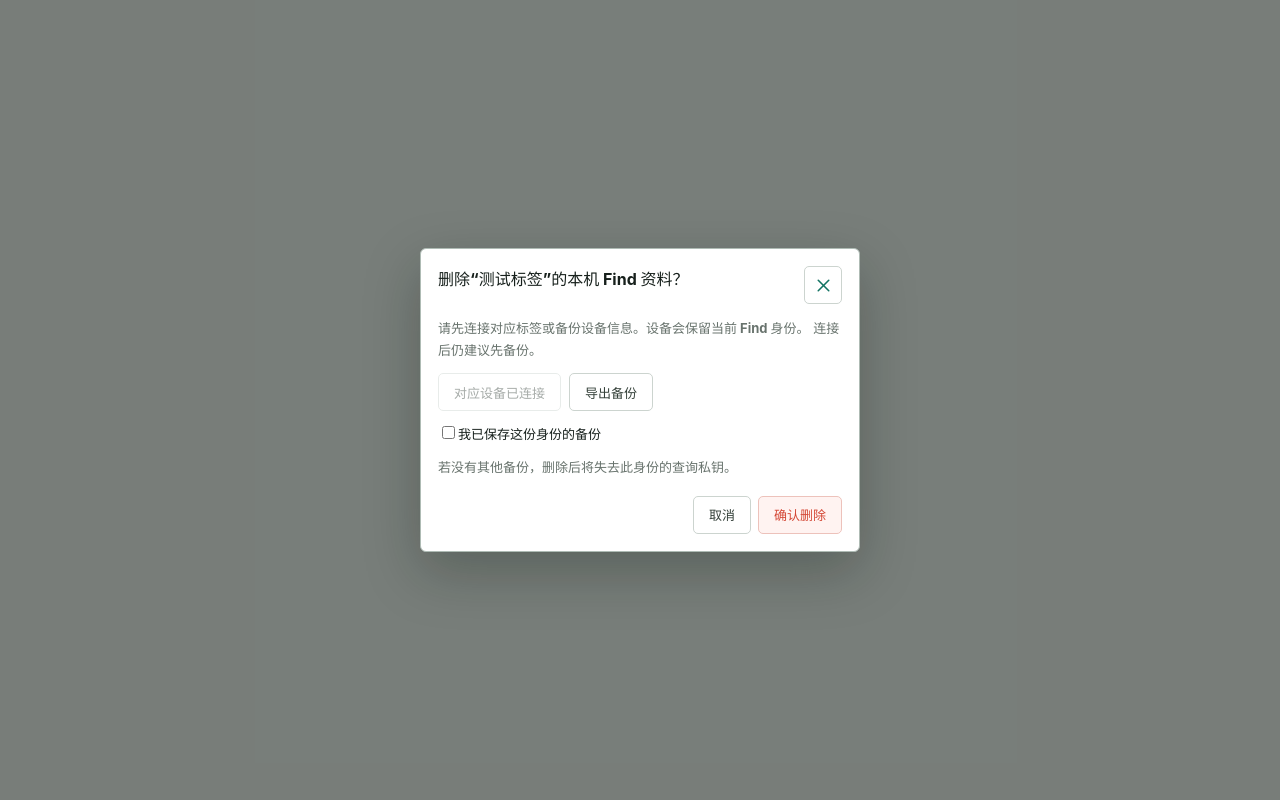
matching connection permits one confirmation and errors preserve the dialog
Click the button "确认删除" at [800, 515], box [758, 496, 842, 534]
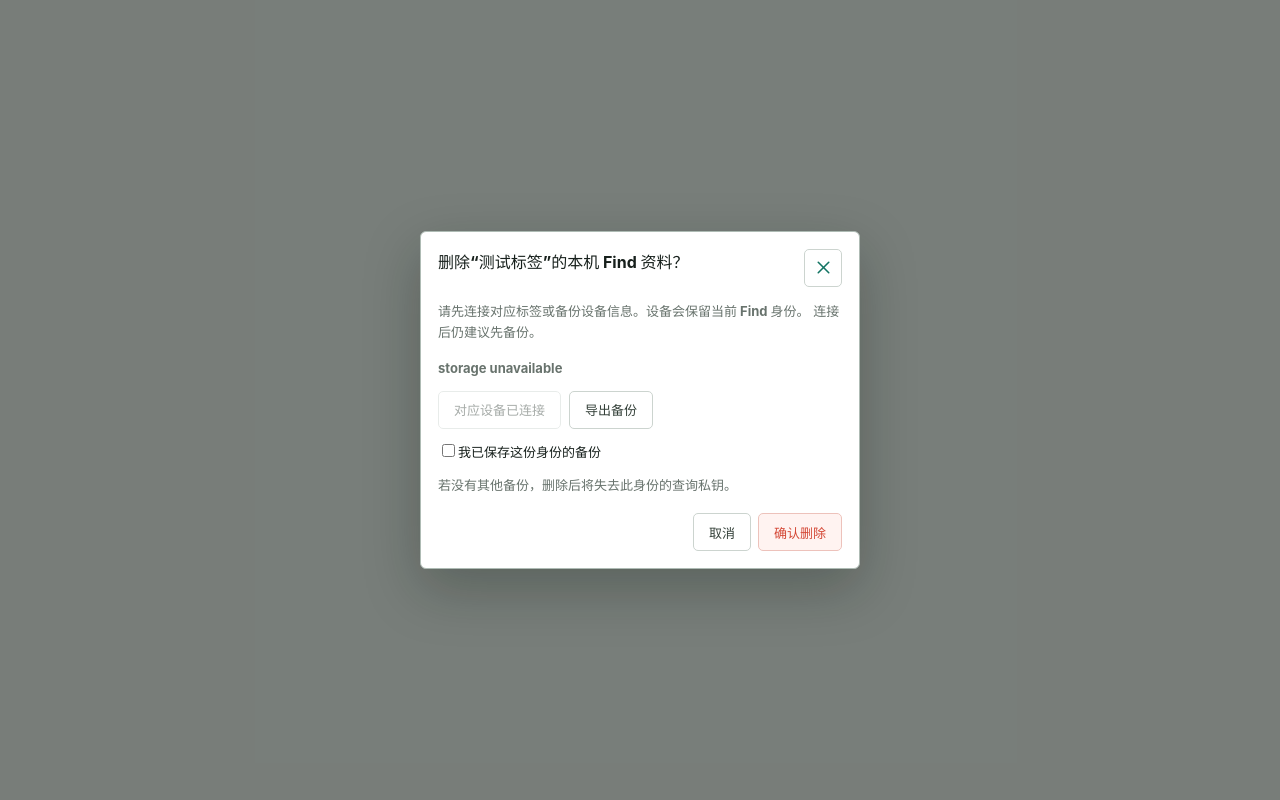
Expected: the message "storage unavailable" is shown, [438, 360, 562, 376]
